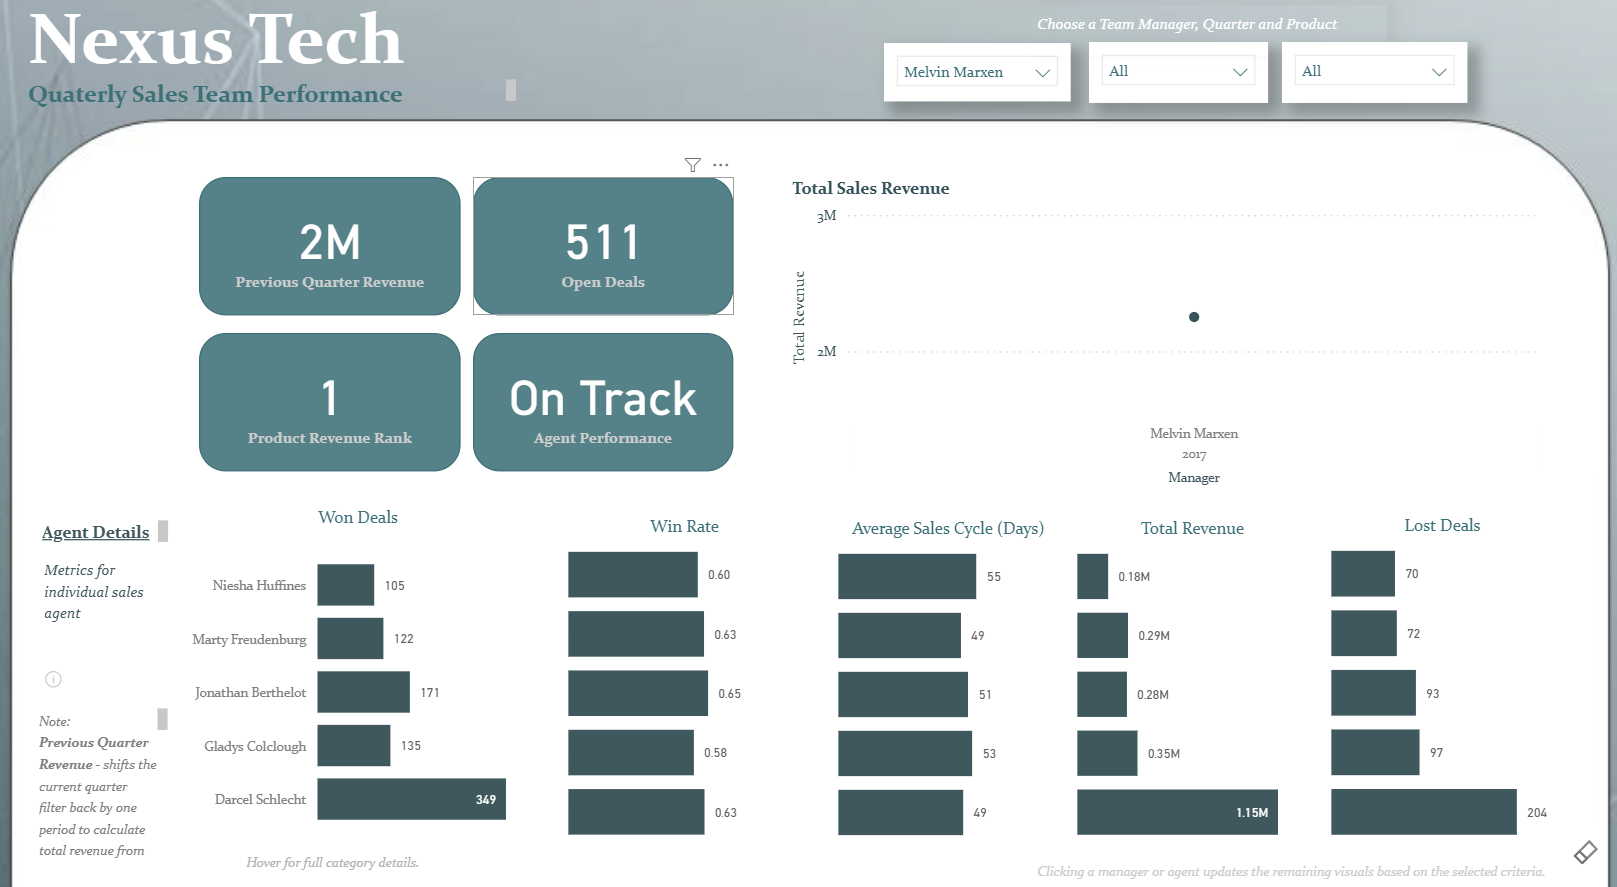

The dashboard page shown, as its layout file describes it:
{"tool":"powerbi","page":{"name":"Page 1 - Team Performance ","canvas":[1280,720],"ordinal":1},"visuals":[{"type":"clusteredBarChart","title":"Won Deals ","fields":{"Category":["sales_teams.Sales agent"],"Y":["Measure table.Won Deals"]},"box":[200.6,454.8,229.3,227],"z":0},{"type":"clusteredBarChart","title":"Win Rate ","fields":{"Category":["sales_teams.Sales agent"],"Y":["Measure table.Win Rate"]},"box":[443.1,454.8,179.3,226.3],"z":1000},{"type":"clusteredBarChart","title":"Average Sales Cycle (Days)","fields":{"Category":["sales_teams.Sales agent"],"Y":["Measure table.Avg Sales Cycle (Days)"]},"box":[640.7,459.2,182.2,221.9],"z":2000},{"type":"clusteredBarChart","title":"Total Revenue ","fields":{"Category":["sales_teams.Sales agent"],"Y":["Measure table.Total Revenue"]},"box":[831.8,459.2,185.2,225.6],"z":3000},{"type":"clusteredBarChart","title":"Lost Deals ","fields":{"Category":["sales_teams.Sales agent"],"Y":["Measure table.Lost Deals"]},"box":[1035.3,462.9,203.5,223.4],"z":4000},{"type":"textbox","box":[33.2,462.6,136.4,26.4],"z":5000},{"type":"textbox","box":[33.2,489,148.1,64.5],"z":6000},{"type":"treemap","title":"Total Sales Revenue by Sector","fields":{"Group":["accounts.sector"],"Values":["Measure table.Total Revenue"]},"box":[694.2,171.4,290,243.9],"z":7000},{"type":"slicer","title":"Choose a Team Manager","fields":{"Values":["sales_teams.Manager"]},"box":[828.8,53.6,147,44.8],"z":8000},{"type":"slicer","fields":{"Values":["Calendar.Quarter"]},"box":[1011.8,53.6,141.8,47.8],"z":9000},{"type":"pivotTable","fields":{"Rows":["sales_teams.Sales agent"],"Columns":["products.product"],"Values":["Measure table.Won Deal Count"]},"box":[85.4,239,599.6,190.4],"z":10000},{"type":"card","fields":{"Values":["Measure table.Revenue Prior Quarter"]},"box":[95.2,132.7,180,105.1],"z":11000},{"type":"card","fields":{"Values":["Measure table.Open Deals"]},"box":[285.1,132.7,190.4,106.3],"z":12000},{"type":"textbox","box":[21.5,0,333.1,82.6],"z":13000},{"type":"textbox","box":[21.5,65.3,393.4,34.7],"z":14000},{"type":"textbox","box":[823.1,13.2,233.9,28.1],"z":15000},{"type":"textbox","box":[33.2,571.9,110.6,129.6],"z":16000},{"type":"actionButton","box":[21.3,549.6,44.8,34.5],"z":17000},{"type":"textbox","box":[716.9,415.3,446,60.8],"z":18000},{"type":"textbox","box":[228.5,670.9,173.2,33.2],"z":19000},{"type":"actionButton","box":[1238.9,673.1,27.9,33.1],"z":20000},{"type":"card","fields":{"Values":["Measure table.Is Lagging Agent"]},"box":[484.1,132.7,186.1,106.3],"z":21000},{"type":"lineChart","title":"Total Sales Revenue","fields":{"Y":["Measure Table.Total Revenue"],"Category":["Calendar.Date.Variation.Date Hierarchy.Year","sales_teams.Manager"]},"box":[984.2,171.4,268.5,239],"z":22000}]}

Visuals, with their boxes in screenshot pixels (x1, y1, x2, y2), scaled from the page's 1280x720 canvas onto the 1617x887 screenshot:
"Won Deals " clusteredBarChart: <box>253,560,543,840</box>
"Win Rate " clusteredBarChart: <box>560,560,786,839</box>
"Average Sales Cycle (Days)" clusteredBarChart: <box>809,566,1040,839</box>
"Total Revenue " clusteredBarChart: <box>1051,566,1285,844</box>
"Lost Deals " clusteredBarChart: <box>1308,570,1565,845</box>
textbox: <box>42,570,214,602</box>
textbox: <box>42,602,229,682</box>
"Total Sales Revenue by Sector" treemap: <box>877,211,1243,512</box>
"Choose a Team Manager" slicer: <box>1047,66,1233,121</box>
slicer - Calendar.Quarter: <box>1278,66,1457,125</box>
pivotTable - sales_teams.Sales agent x products.product: <box>108,294,865,529</box>
card - Measure table.Revenue Prior Quarter: <box>120,163,348,293</box>
card - Measure table.Open Deals: <box>360,163,601,294</box>
textbox: <box>27,0,448,102</box>
textbox: <box>27,80,524,123</box>
textbox: <box>1040,16,1335,51</box>
textbox: <box>42,705,182,864</box>
actionButton: <box>27,677,84,720</box>
textbox: <box>906,512,1469,587</box>
textbox: <box>289,827,507,867</box>
actionButton: <box>1565,829,1600,870</box>
card - Measure table.Is Lagging Agent: <box>612,163,847,294</box>
"Total Sales Revenue" lineChart: <box>1243,211,1583,506</box>
